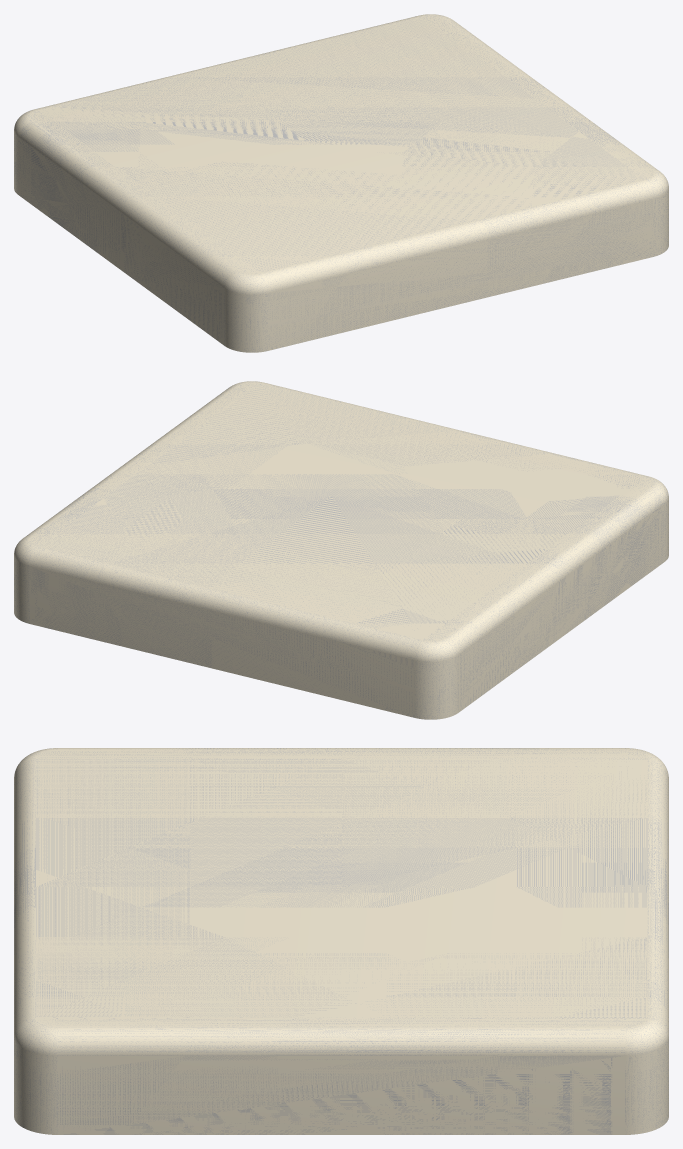
The model's file is original-52.obj.
3 views of the same model, one above another, from view 1: azimuth 30°, elevation 25°; view 2: azimuth 150°, elevation 25°; view 3: azimuth 270°, elevation 25° (orthographic). The views are drawn at different scales.
Visible parts, largest first — view 1: Component_9_6/Component_9/mesh14/mesh14-geometry#mesh14-geometry; view 2: Component_9_6/Component_9/mesh14/mesh14-geometry#mesh14-geometry; view 3: Component_9_6/Component_9/mesh14/mesh14-geometry#mesh14-geometry.
Part boxes in pixels (<box>): Component_9_6/Component_9/mesh14/mesh14-geometry#mesh14-geometry: <box>14,14,668,352</box>; Component_9_6/Component_9/mesh14/mesh14-geometry#mesh14-geometry: <box>14,381,668,719</box>; Component_9_6/Component_9/mesh14/mesh14-geometry#mesh14-geometry: <box>14,748,668,1134</box>.
Bounding box in the file's own units: 0.0633 × 0.00989 × 0.0594.
